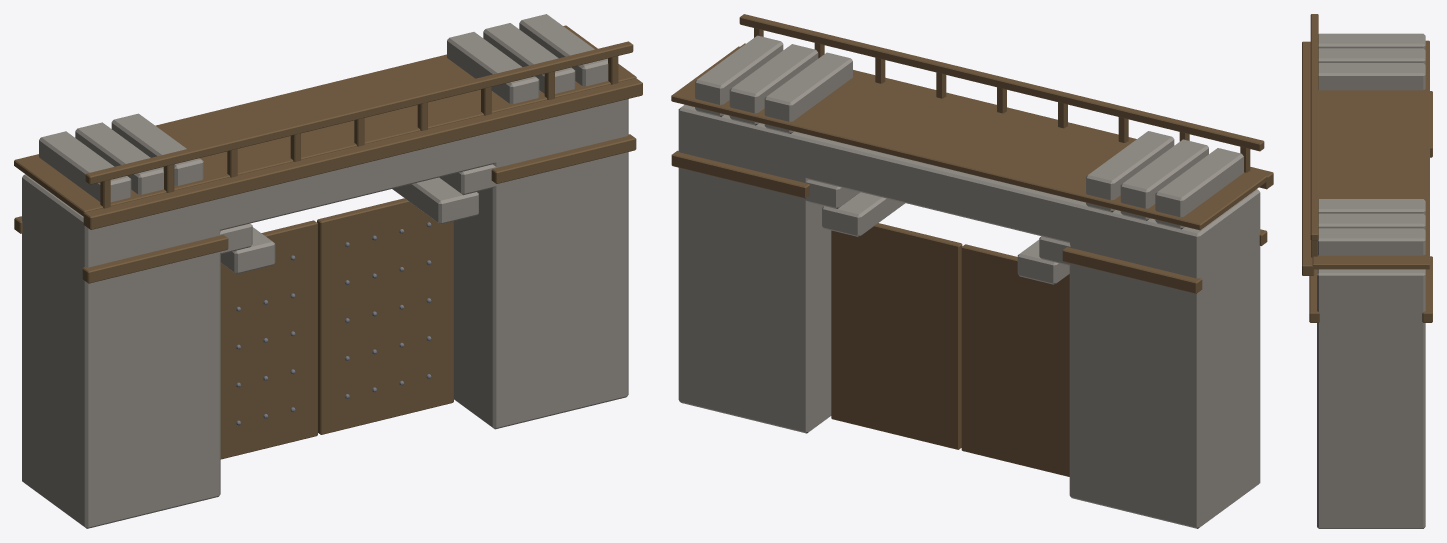
File: gate.glb
3 views of the same model, side by side, from view 1: azimuth 30°, elevation 25°; view 2: azimuth 150°, elevation 25°; view 3: azimuth 270°, elevation 25° (orthographic). The views are drawn at different scales.
Visible parts, largest first — view 1: stone, wood, iron; view 2: stone, wood; view 3: stone, wood.
Boxes of the visible parts, box(x1,y1,x2,y2) form: stone: box(22, 14, 628, 528); wood: box(14, 25, 642, 459); iron: box(236, 222, 431, 425); stone: box(678, 35, 1260, 528); wood: box(671, 14, 1273, 476); stone: box(1317, 33, 1425, 528); wood: box(1302, 14, 1432, 322).
Bounding box in the file's own units: 12.2 × 7.51 × 3.01.
